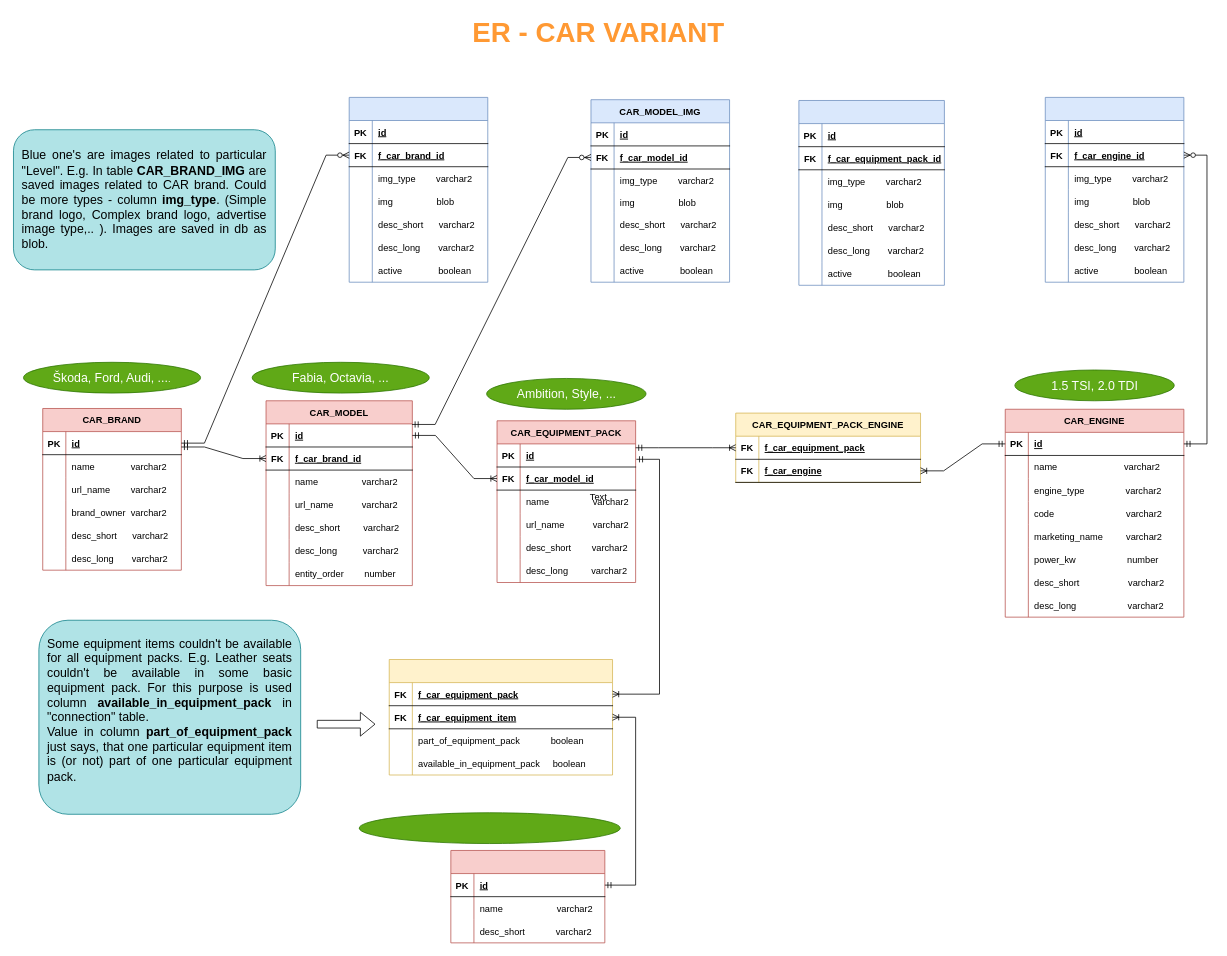
This 1227x956 diagram has some shape labels left out. The box of each missing label's shape, as (x1, y1, x2, y2) in pixels:
CAR_BRAND_IMG: (348, 97, 488, 282)
CAR_ENGINE_IMG: (1045, 97, 1184, 282)
CAR_EQUIPMENT_ITEM: (450, 850, 605, 943)
CAR_EQUIPMENT_PACK_EQUIPMENT_ITEM: (388, 659, 613, 775)
CAR_EQUIPMENT_PACK_IMG: (798, 100, 944, 285)
Leather Seats, Head Up Display, ....: (358, 812, 620, 844)
